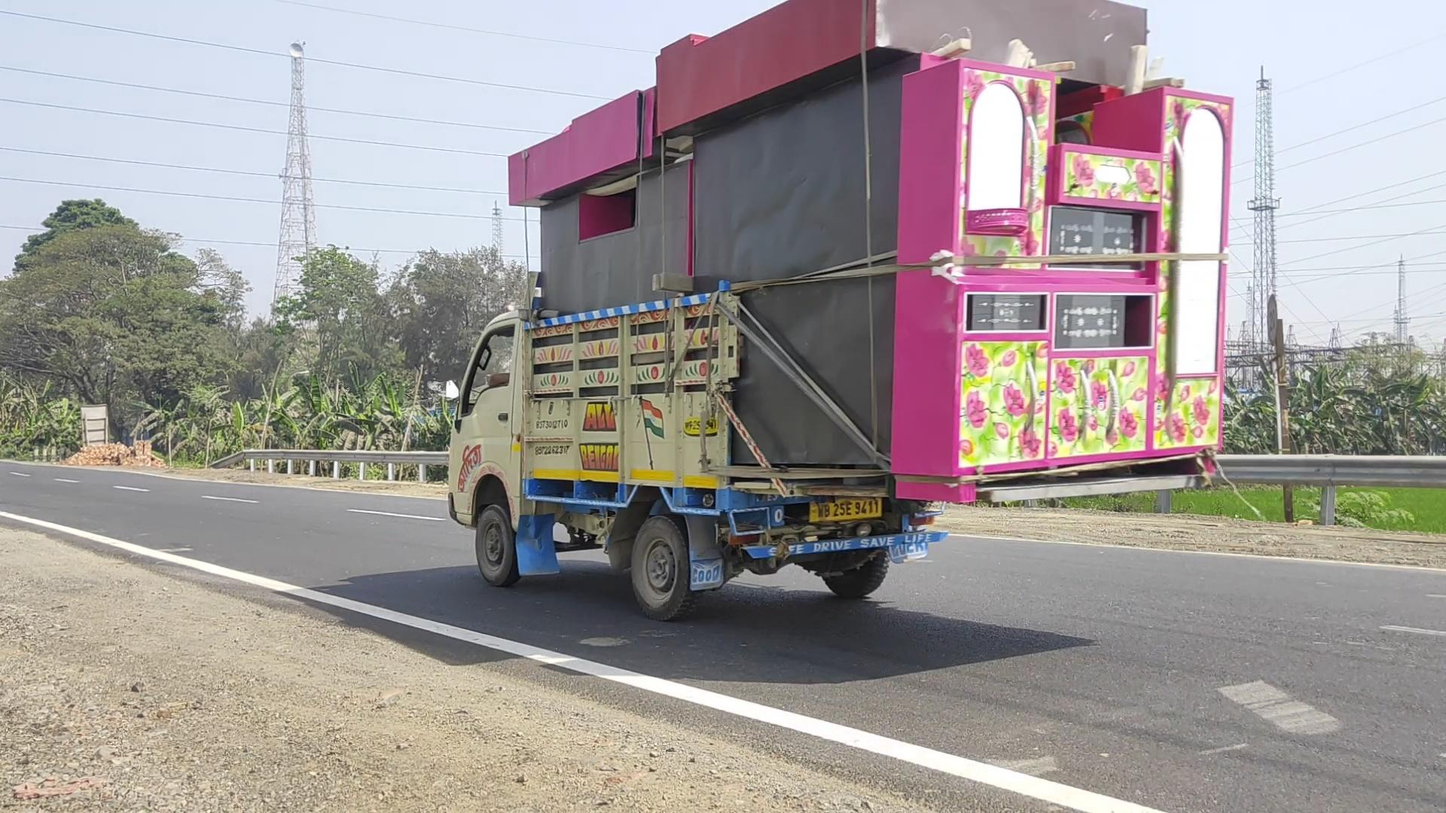van: (442, 2, 1236, 620)
